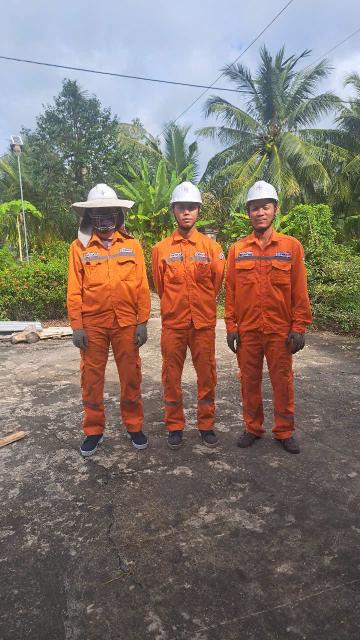gloves: (280, 327, 310, 357), (70, 324, 95, 351), (127, 323, 152, 349), (223, 328, 244, 354)
helmet: (75, 179, 132, 220), (243, 176, 289, 213), (167, 172, 204, 214)
shoes: (75, 424, 110, 467), (115, 416, 150, 453), (189, 424, 225, 452), (232, 417, 258, 452), (268, 430, 301, 456), (160, 423, 188, 450)
